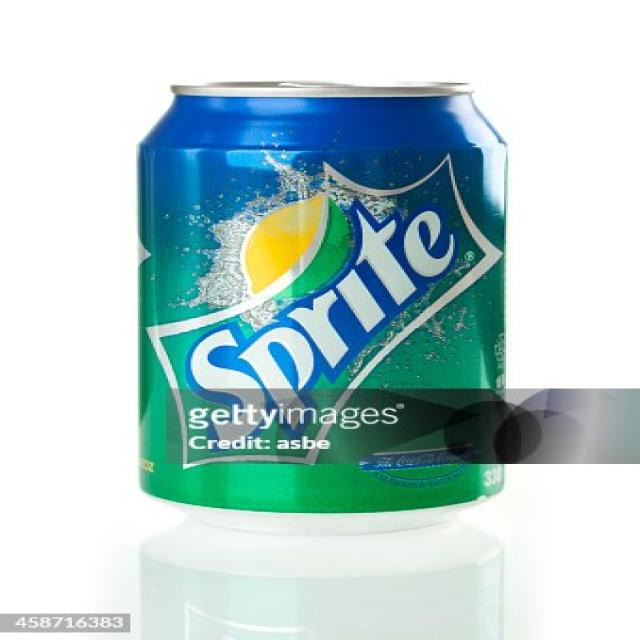sprite: (112, 78, 534, 516)
